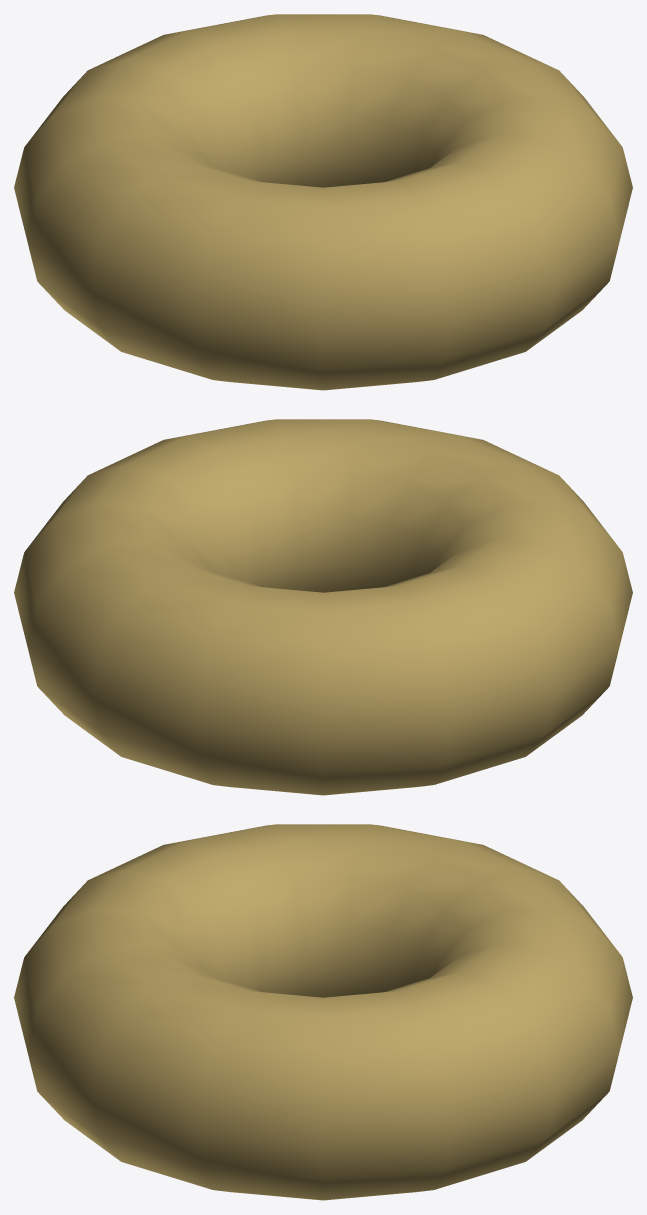
File: cheerio.fbx
3 renders of one model, top to bottom at view 1: azimuth 30°, elevation 25°; view 2: azimuth 150°, elevation 25°; view 3: azimuth 270°, elevation 25°, orthographic.
Visible parts, largest first — view 1: cheerio; view 2: cheerio; view 3: cheerio.
Part boxes in pixels (x1,y1,x2,y2): cheerio: (14, 14, 632, 390); cheerio: (14, 419, 632, 795); cheerio: (14, 824, 632, 1200).
Size of the model in its own units: 2.97 by 0.9749 by 2.98.
